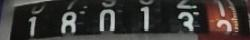digits: (211, 0, 237, 36), (176, 0, 200, 37), (98, 7, 116, 34), (60, 10, 78, 36), (139, 5, 152, 34), (27, 13, 40, 38)
